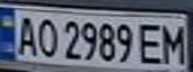2: (57, 17, 81, 61)
8: (97, 19, 118, 63)
9: (115, 20, 139, 64), (78, 18, 100, 62)
A: (12, 12, 39, 56)
E: (136, 20, 166, 65)
M: (157, 20, 190, 64)
O: (33, 15, 60, 58)
